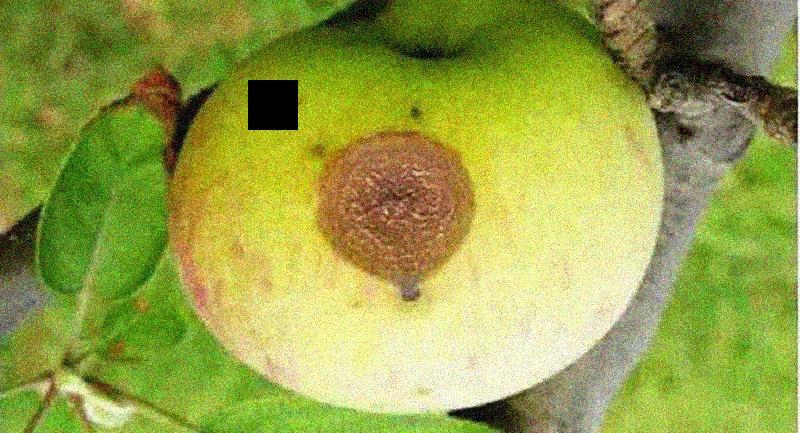rotten apple: (160, 4, 671, 416)
